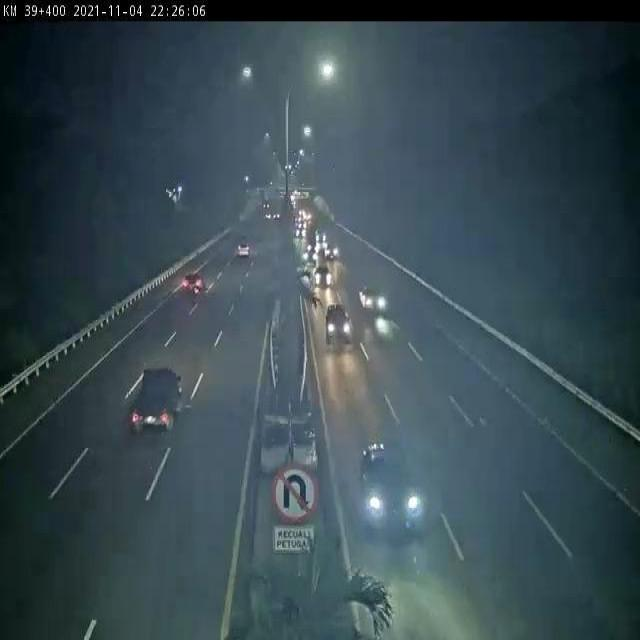car: (358, 443, 438, 541), (323, 300, 359, 363), (176, 272, 209, 308), (356, 284, 389, 315), (311, 265, 337, 291), (232, 242, 252, 266)
truck-s-: (129, 358, 187, 442)
